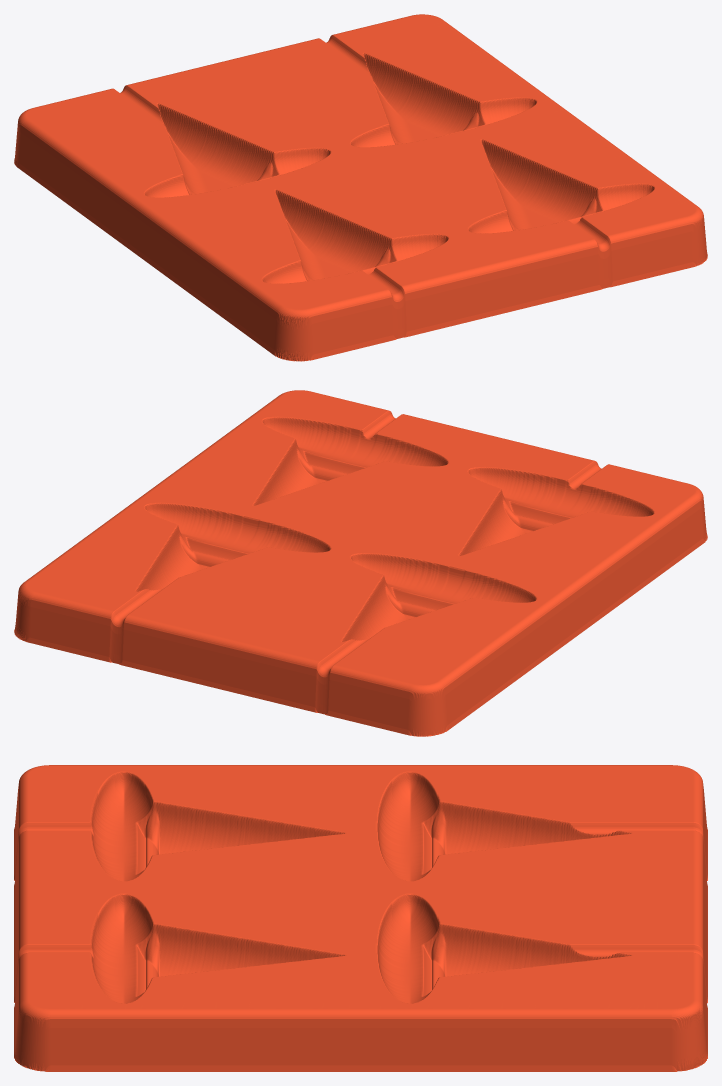
The model's file is mold.glb.
3 renders of one model, top to bottom at view 1: azimuth 30°, elevation 25°; view 2: azimuth 150°, elevation 25°; view 3: azimuth 270°, elevation 25°, orthographic. The views are drawn at different scales.
Visible parts, largest first — view 1: geometry_0; view 2: geometry_0; view 3: geometry_0.
Part boxes in pixels (x1,y1,x2,y2): geometry_0: (14,14,707,361); geometry_0: (14,390,707,736); geometry_0: (14,765,707,1071).
Bounding box in the file's own units: 0.1497 × 0.0155 × 0.1719.
